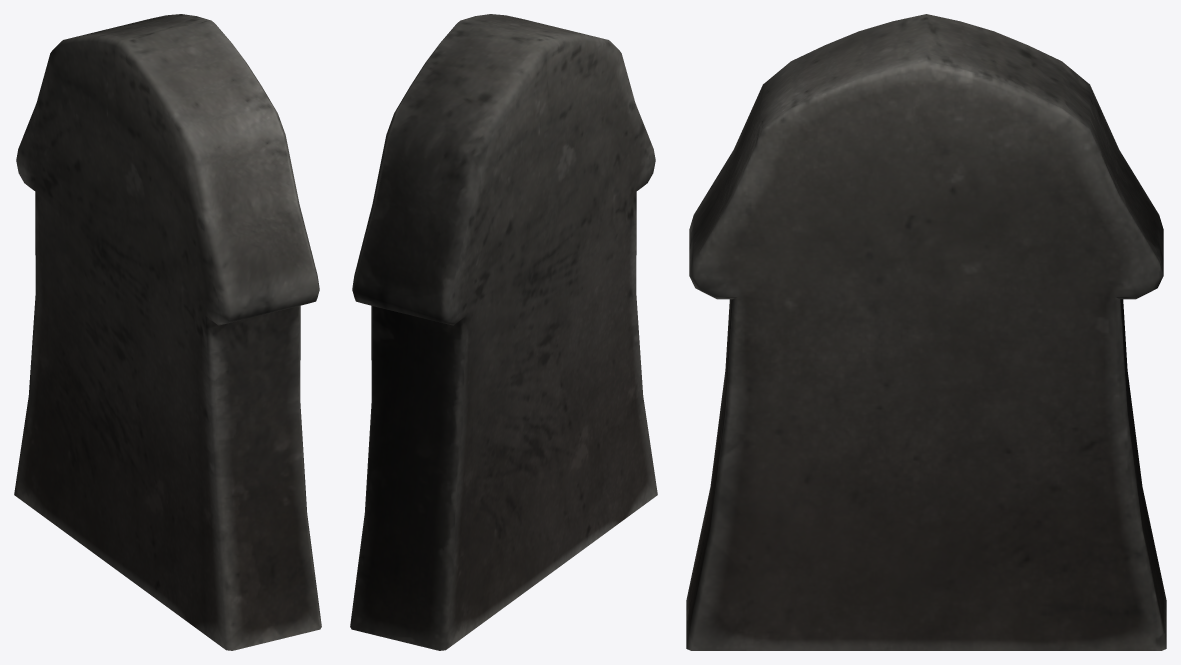
Rendered from gravestone_small3.obj.
The picture shows the model from 3 angles, left to right: view 1: azimuth 30°, elevation 25°; view 2: azimuth 150°, elevation 25°; view 3: azimuth 270°, elevation 25°; orthographic projection. The views are drawn at different scales.
Parts seen in each view (by area): view 1: Gravestone_Small03; view 2: Gravestone_Small03; view 3: Gravestone_Small03.
Boxes of the visible parts, x1=… form: Gravestone_Small03: x1=14, y1=14, x2=321, y2=650; Gravestone_Small03: x1=350, y1=14, x2=657, y2=650; Gravestone_Small03: x1=686, y1=14, x2=1166, y2=650.
Bounding box in the file's own units: 0.9672 × 5.11 × 3.79.
Materials: 1 (1 with a texture image).
